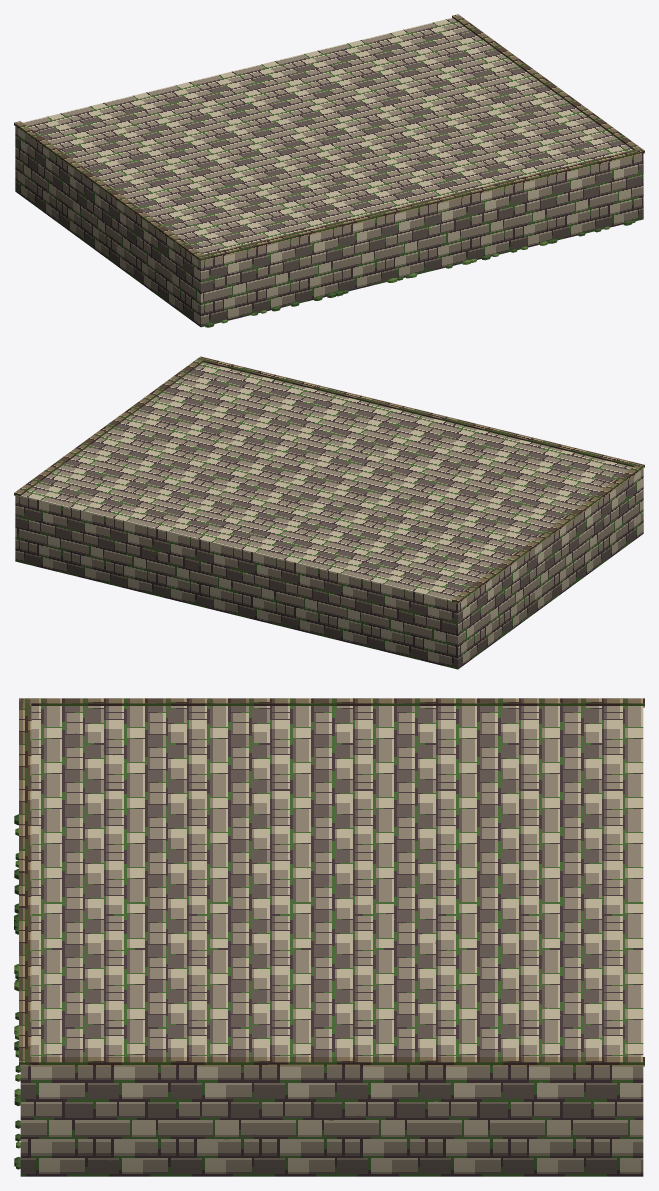
File: scene_wall_n.glb
3 renders of one model, top to bottom at view 1: azimuth 30°, elevation 25°; view 2: azimuth 150°, elevation 25°; view 3: azimuth 270°, elevation 25°, orthographic. The views are drawn at different scales.
Visible parts, largest first — view 1: scene_wall_n; view 2: scene_wall_n; view 3: scene_wall_n.
Boxes of the visible parts, left/top/right/bottom form: scene_wall_n: left=14, top=14, right=644, bottom=327; scene_wall_n: left=14, top=356, right=644, bottom=669; scene_wall_n: left=14, top=698, right=644, bottom=1176.
Bounding box in the file's own units: 24.9 × 3.77 × 18.24.
Materials: 2 (1 with a texture image).
